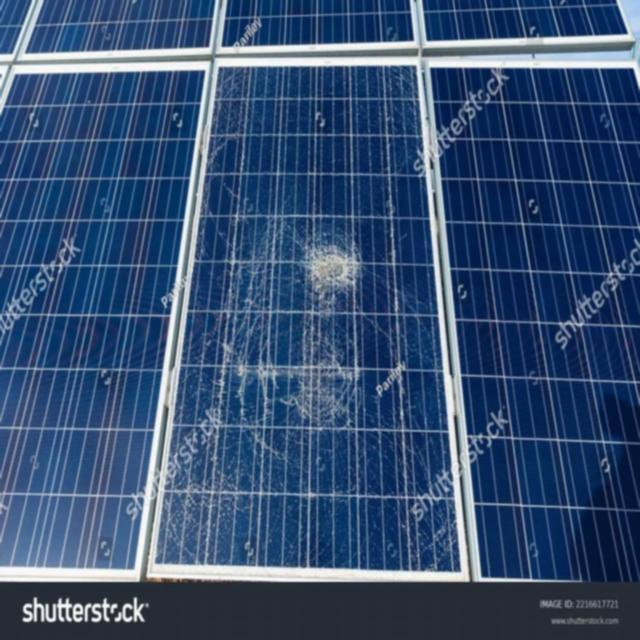cracked: (154, 58, 466, 584)
